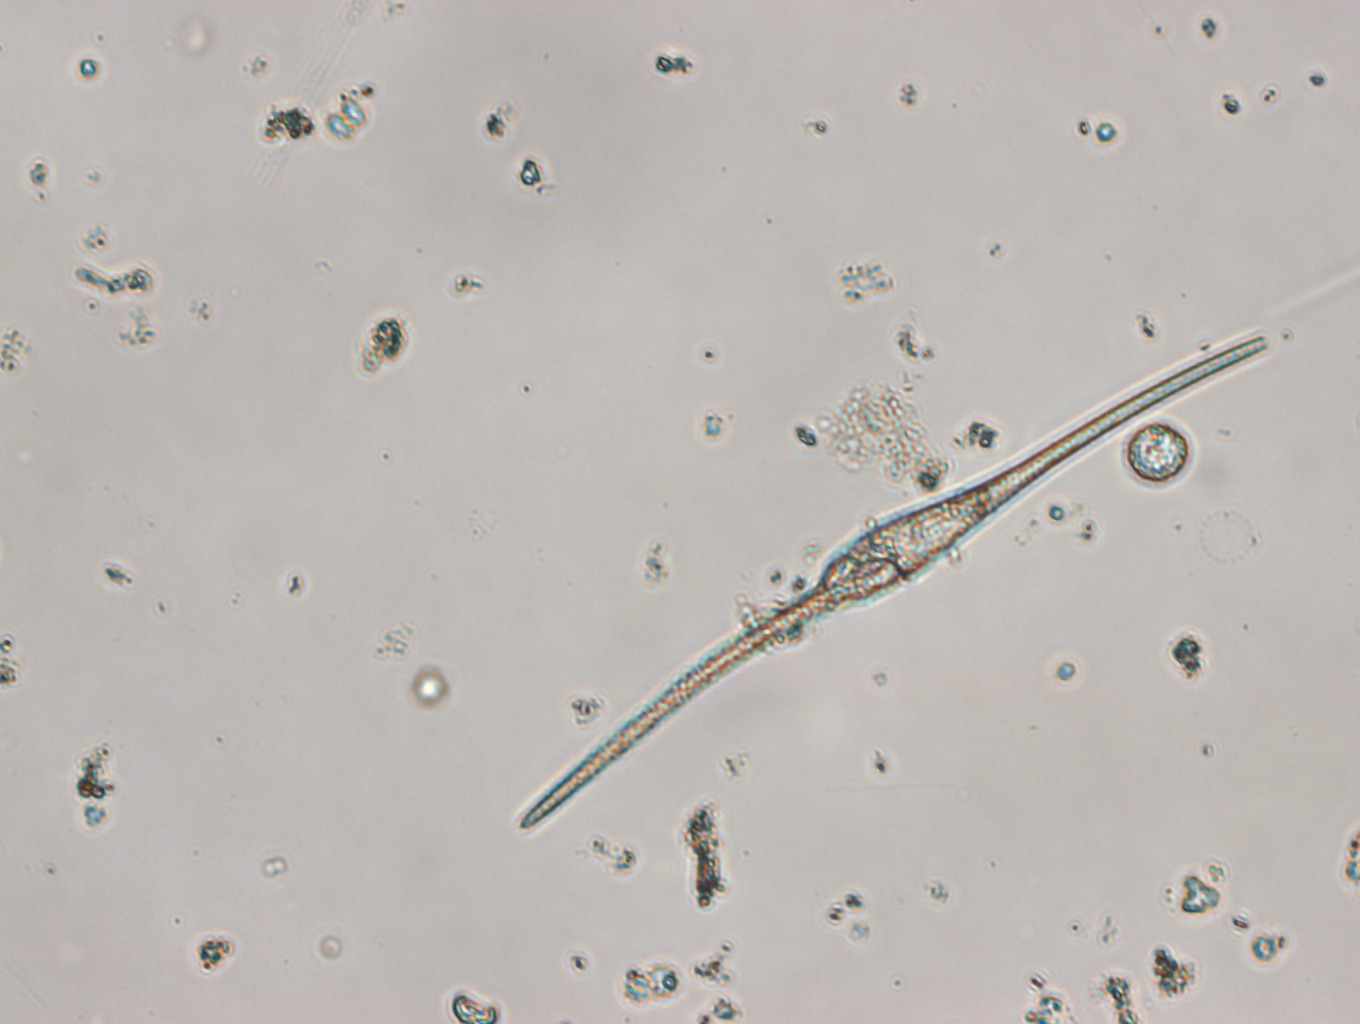ceratium fusus: (513, 327, 1270, 833)
